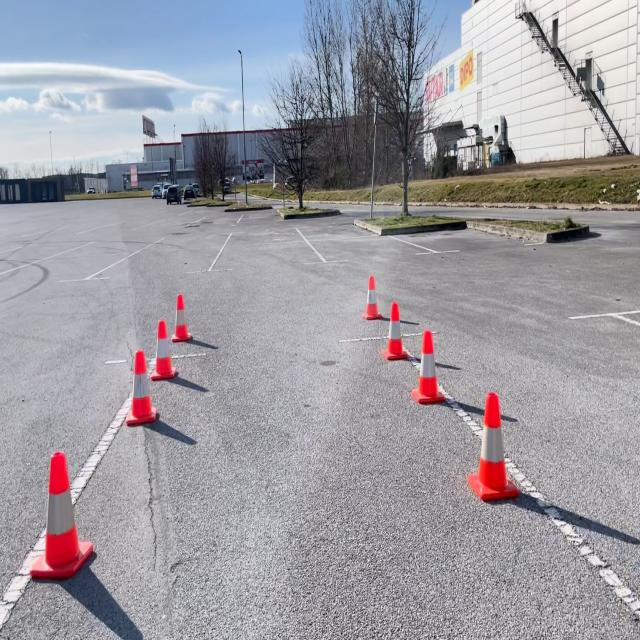orange_cone: (28, 447, 92, 582), (466, 389, 520, 502), (410, 328, 446, 403), (124, 348, 158, 425), (150, 315, 178, 381), (380, 300, 409, 360), (171, 291, 193, 342), (360, 273, 383, 320)
